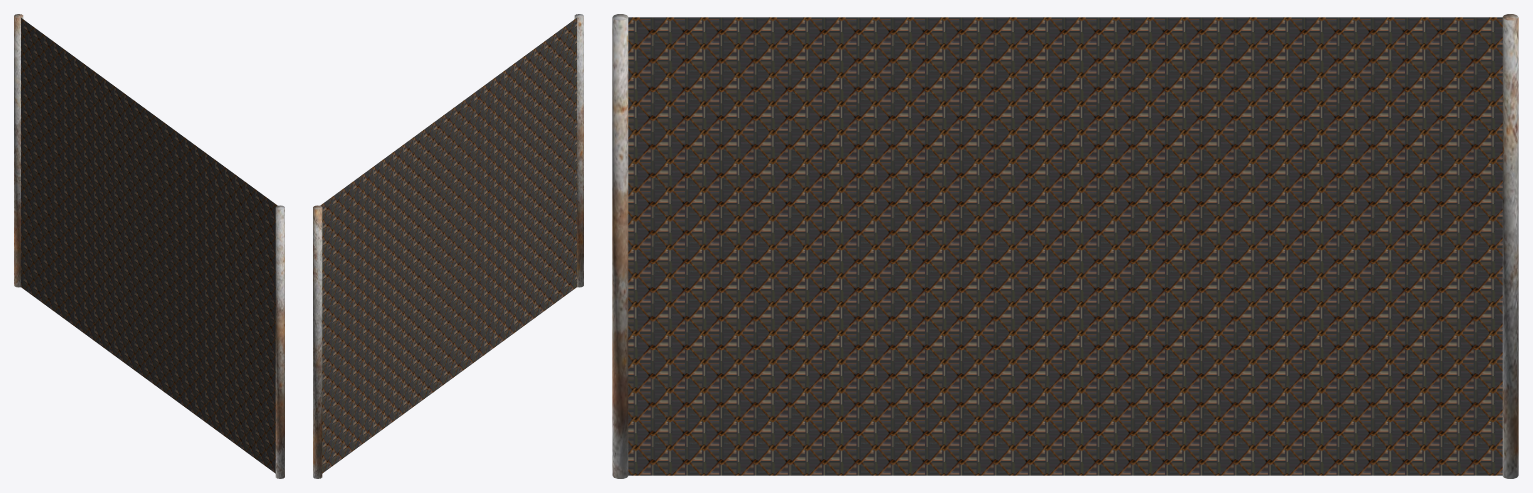
Rendered from metalfence.fbx.
3 views of the same model, side by side, from view 1: azimuth 30°, elevation 25°; view 2: azimuth 150°, elevation 25°; view 3: azimuth 270°, elevation 25° (orthographic). The views are drawn at different scales.
Visible parts, largest first — view 1: Cylinder.001; view 2: Cylinder.001; view 3: Cylinder.001.
Part boxes in pixels (bbox=[...]): Cylinder.001: bbox=[14, 14, 284, 478]; Cylinder.001: bbox=[313, 14, 583, 478]; Cylinder.001: bbox=[612, 14, 1518, 478].
Size of the model in its own units: 8.63 by 287 by 513.
